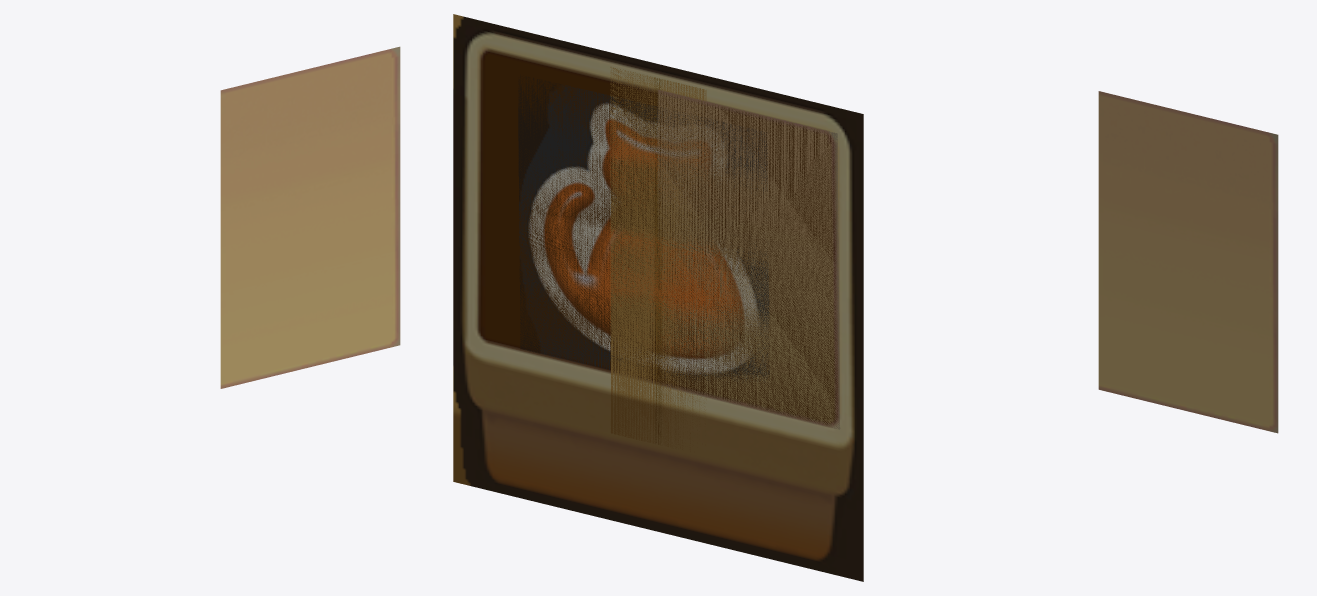
Rendered from Mystery.glb.
3 renders of one model, left to right at view 1: azimuth 30°, elevation 25°; view 2: azimuth 150°, elevation 25°; view 3: azimuth 330°, elevation 25°, orthographic.
Visible parts, largest first — view 1: Mystery; view 2: Mystery; view 3: Mystery.
Boxes of the visible parts, x1,y1,x2,y2 form: Mystery: (220,46,400,388); Mystery: (453,14,863,581); Mystery: (1098,91,1278,433).
Size of the model in its own units: 5.87 by 6.39 by 0.
1 material, 1 textured.
